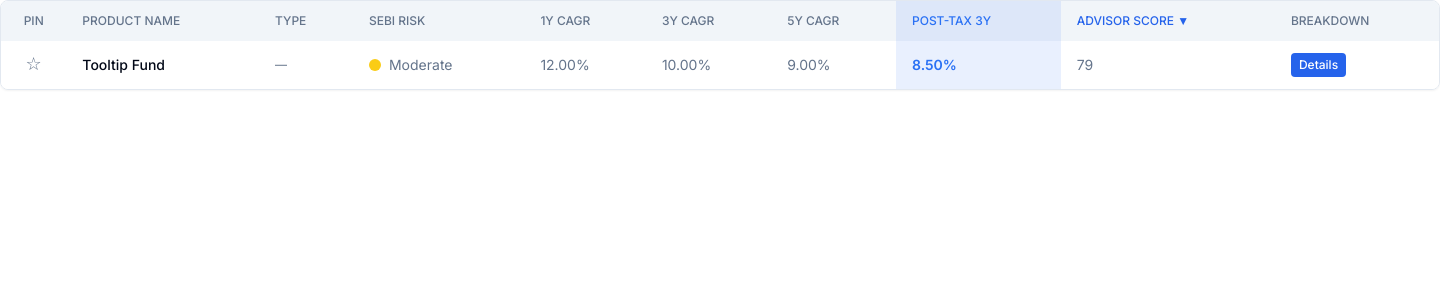
Test: AssetTable › hover tooltip shows extra fields
The image size is (1440, 298).
Check: the text "Tooltip Fund" is shown, box [82,56,165,73]
Hover over the text "Tooltip Fund" at (124, 64), box [1,41,1439,89]
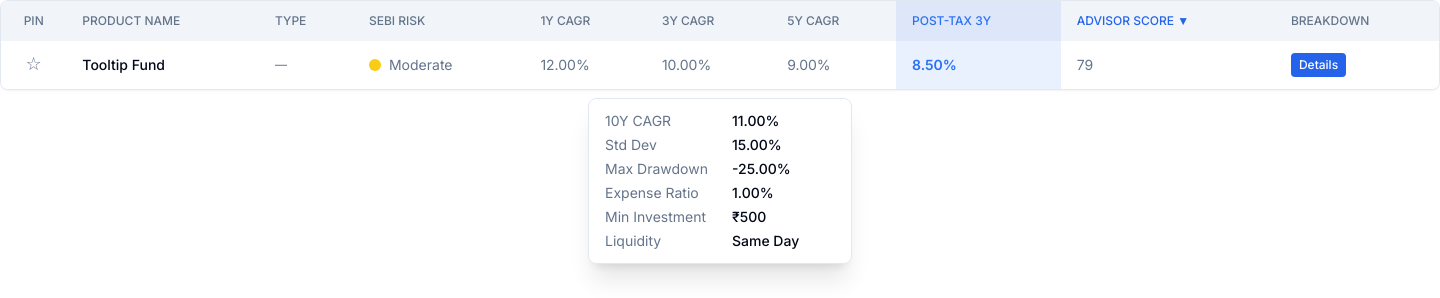
Check: the text "Std Dev" is shown, box [605,136,657,153]
Check: the text "Expense Ratio" is shown, box [605,183,708,203]
Check: the text "10Y CAGR" is shown, box [605,112,671,129]
